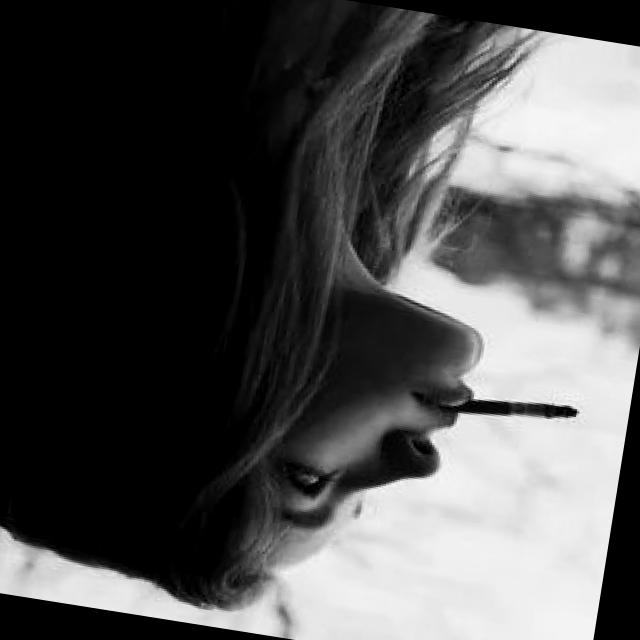cigarette: (428, 373, 587, 444)
